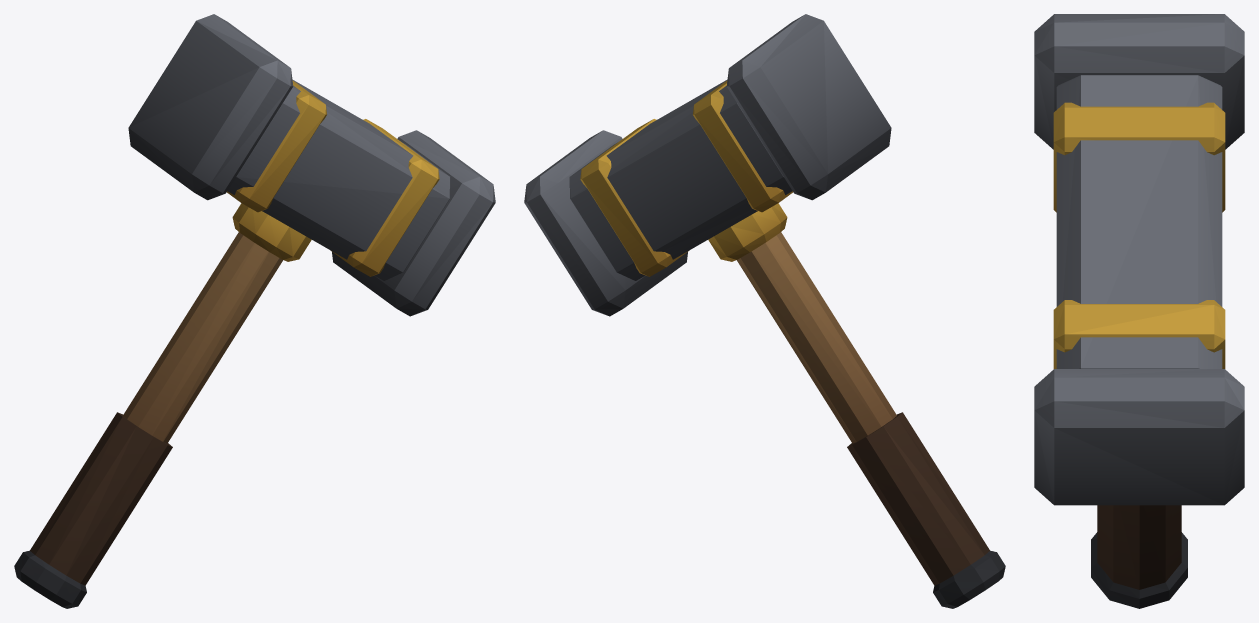
The model's file is hammer.glb.
3 renders of one model, left to right at view 1: azimuth 30°, elevation 25°; view 2: azimuth 150°, elevation 25°; view 3: azimuth 270°, elevation 25°, orthographic. The views are drawn at different scales.
Parts seen in each view (by area): view 1: hammer; view 2: hammer; view 3: hammer.
Boxes of the visible parts, left/top/right/bottom form: hammer: left=14, top=14, right=495, bottom=608; hammer: left=524, top=14, right=1005, bottom=608; hammer: left=1034, top=14, right=1244, bottom=608.
Bounding box in the file's own units: 0.6216 × 0.6999 × 0.19.
